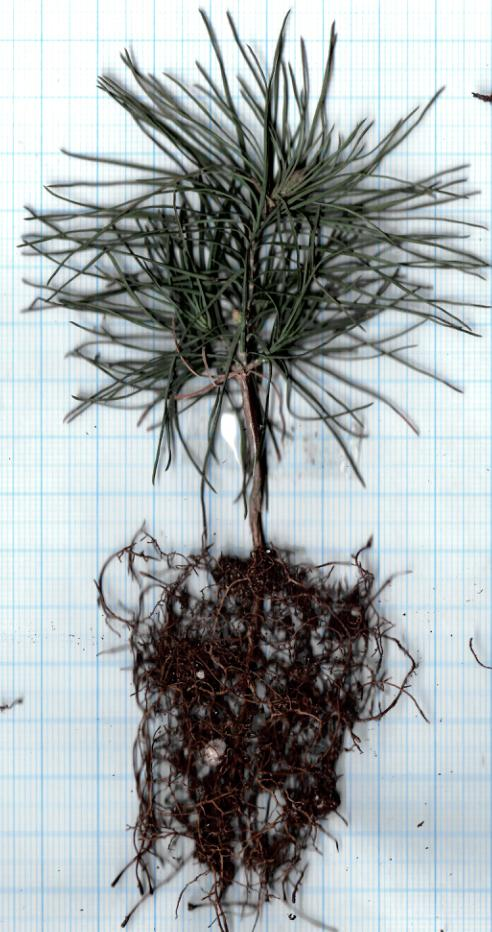flower: (16, 22, 492, 461)
root: (120, 537, 396, 914)
stem: (234, 383, 275, 549)
